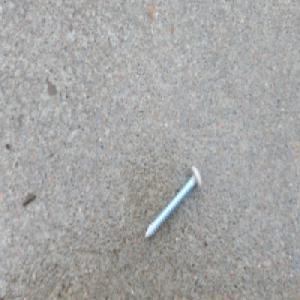Nail: (144, 164, 202, 241)
